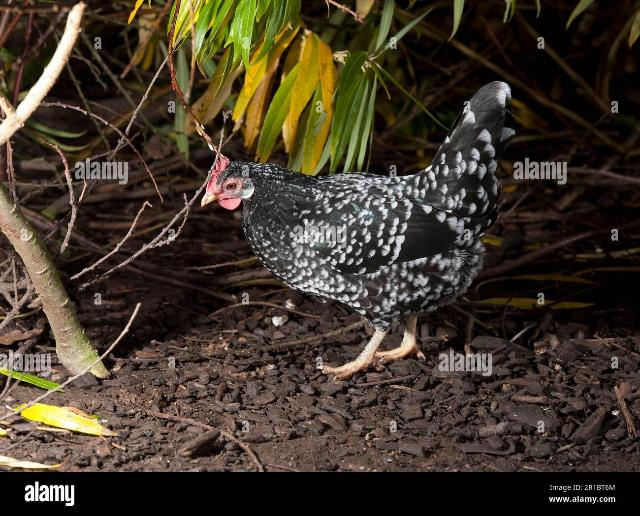Chicken: (200, 80, 512, 381)
